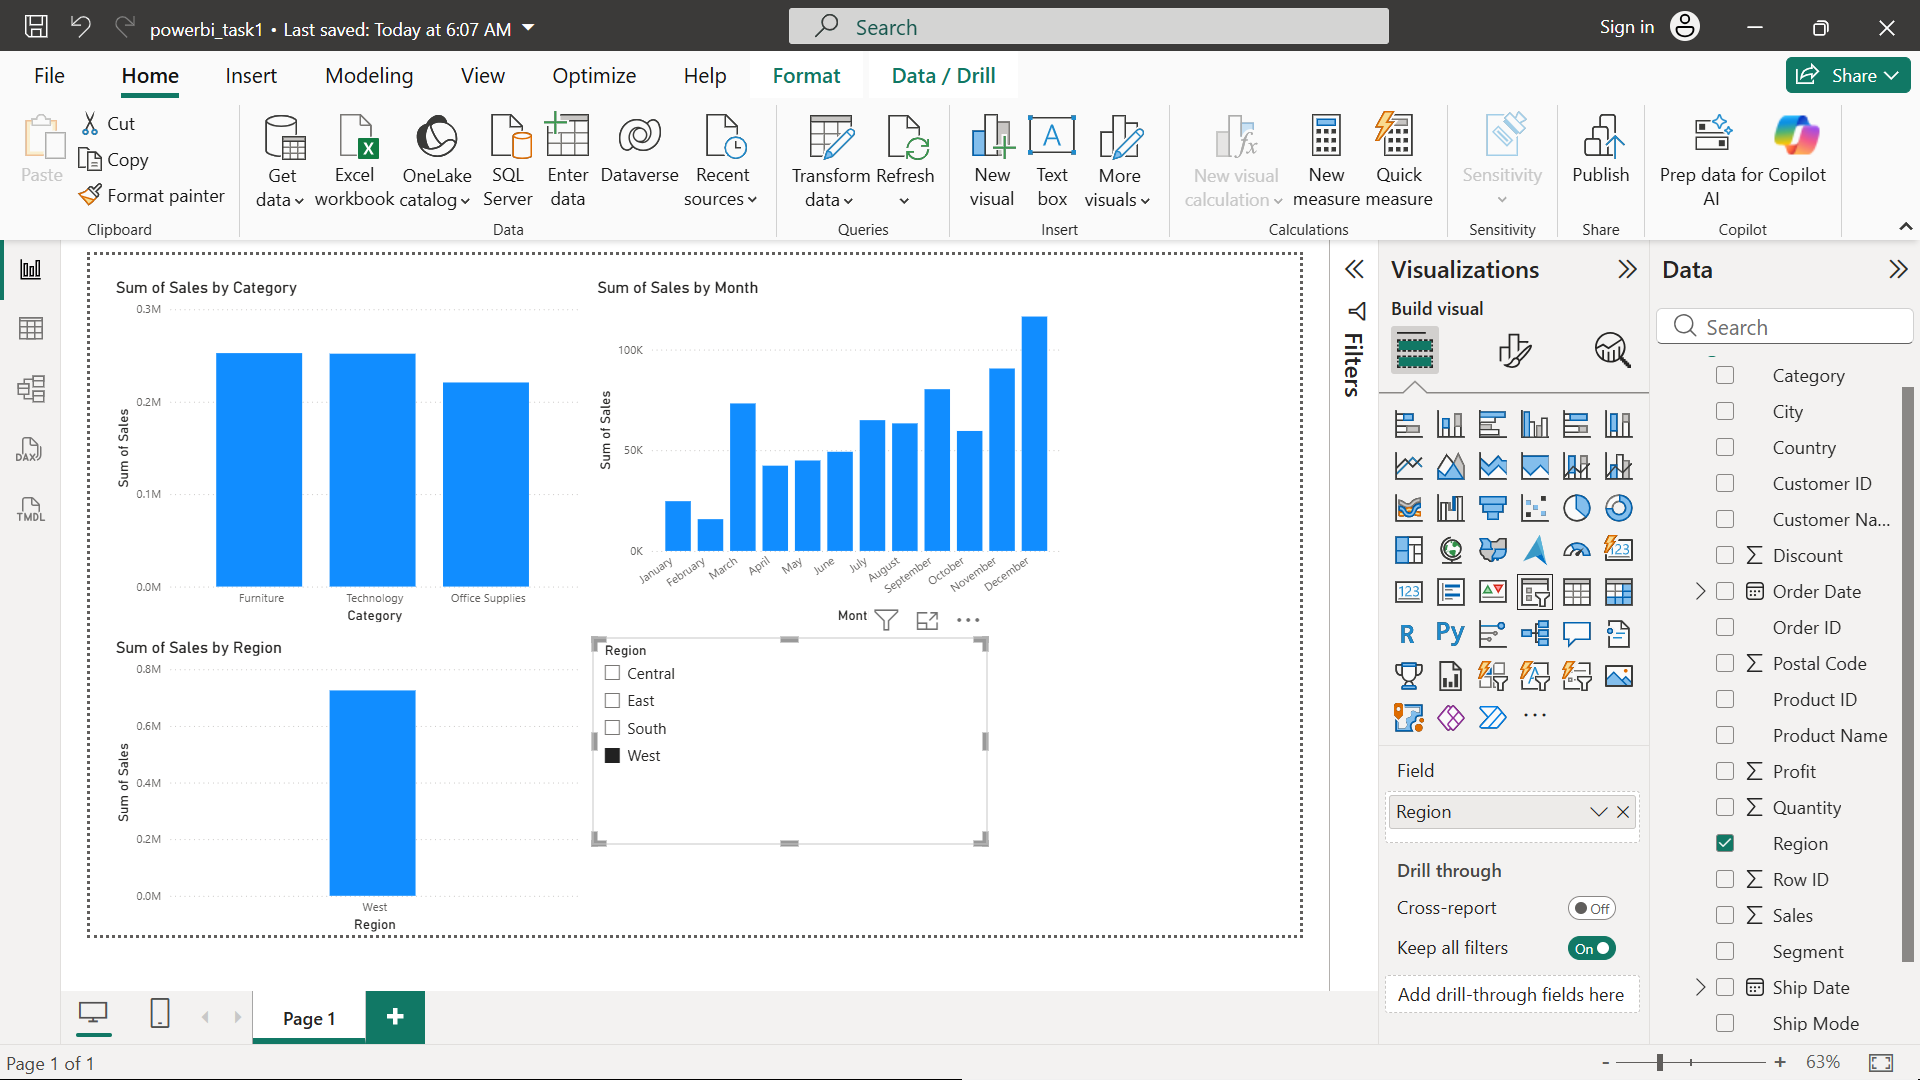

What the dashboard file says about the page in this screenshot:
{"tool":"powerbi","page":{"name":"Page 1","canvas":[1280,720],"ordinal":0},"visuals":[{"type":"clusteredColumnChart","fields":{"Y":["Sum(Sample - Superstore.Sales)"],"Category":["Sample - Superstore.Category"]},"box":[22.4,23.7,500,369.7],"z":0},{"type":"clusteredColumnChart","fields":{"Y":["Sum(Sample - Superstore.Sales)"],"Category":["Sample - Superstore.Region"]},"box":[22,404,500,316],"z":1000},{"type":"clusteredColumnChart","fields":{"Y":["Sum(Sample - Superstore.Sales)"],"Category":["Sample - Superstore.Order Date.Variation.Date Hierarchy.Month"]},"box":[532,24,500,370],"z":2000},{"type":"slicer","fields":{"Values":["Sample - Superstore.Region"]},"box":[531.7,404.8,417.5,219],"z":3000}]}

Visuals, with their boxes on the page's 1280x720 design canvas (x1, y1, x2, y2). These are canvas units, not pixel positions in the 1920x1080 screenshot, which may show the page scaled, cropped or inside an application window:
clusteredColumnChart - Sum(Sample - Superstore.Sales) x Sample - Superstore.Category: 22, 24, 522, 393
clusteredColumnChart - Sum(Sample - Superstore.Sales) x Sample - Superstore.Region: 22, 404, 522, 720
clusteredColumnChart - Sum(Sample - Superstore.Sales) x Sample - Superstore.Order Date.Variation.Date Hierarchy.Month: 532, 24, 1032, 394
slicer - Sample - Superstore.Region: 532, 405, 949, 624
